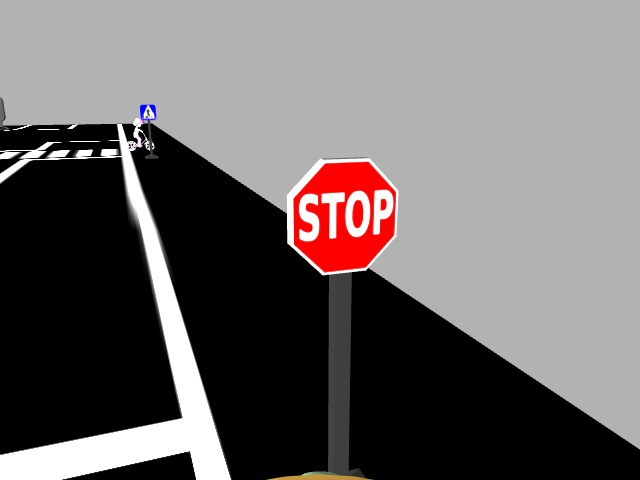Stop: (275, 152, 402, 276)
